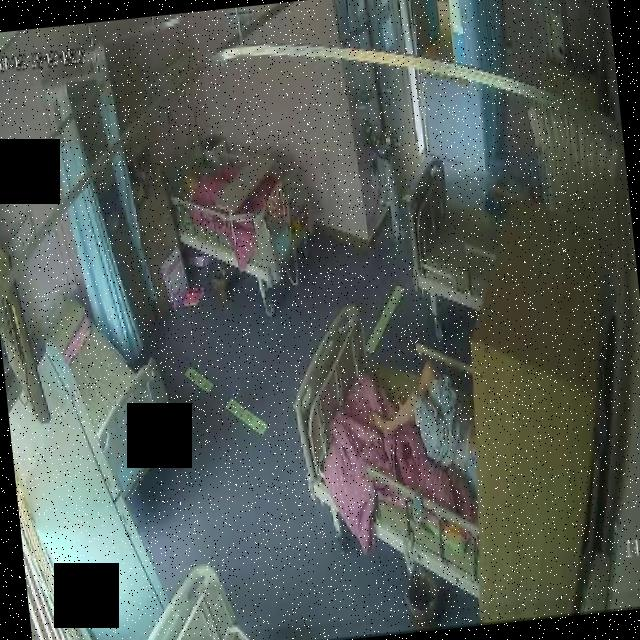bed: (290, 299, 492, 582), (44, 276, 182, 482), (162, 119, 320, 284), (399, 148, 510, 314)
lie: (362, 354, 483, 492)
patient: (362, 352, 484, 492), (180, 158, 213, 200)
